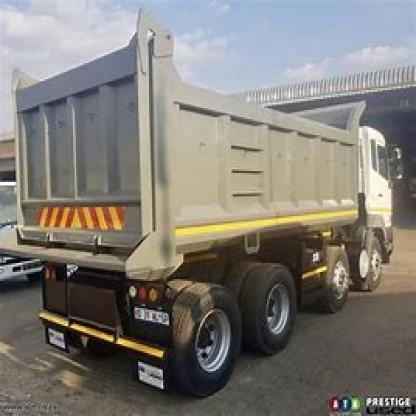dump_truck: (9, 9, 404, 393)
